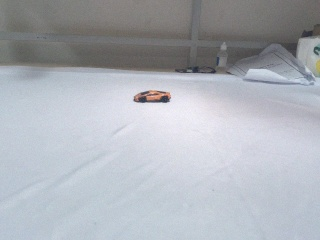toy_car: (132, 86, 172, 106)
